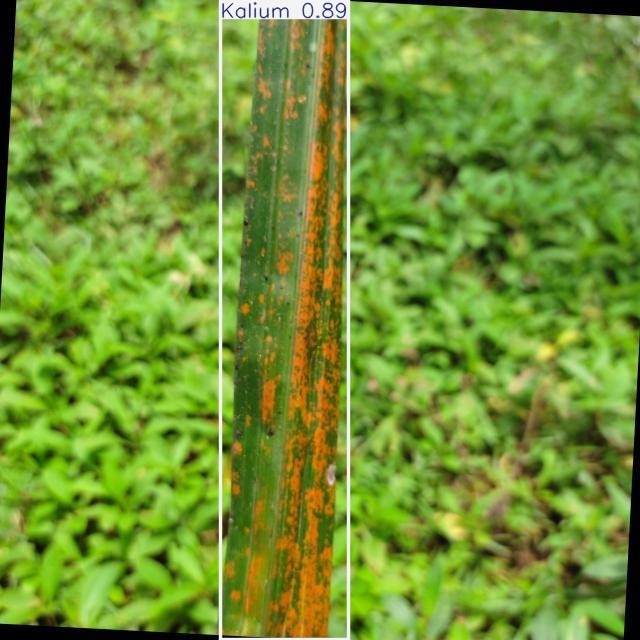Kalium: (221, 0, 349, 640)
